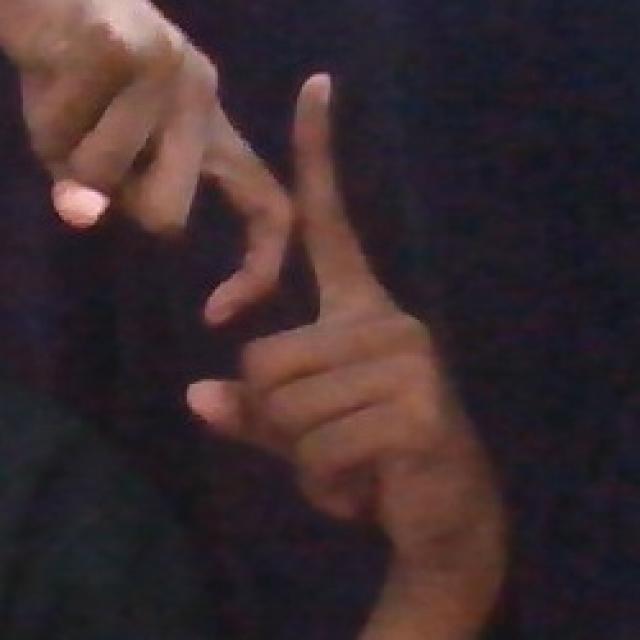Alphabet-K: (0, 0, 512, 594)
